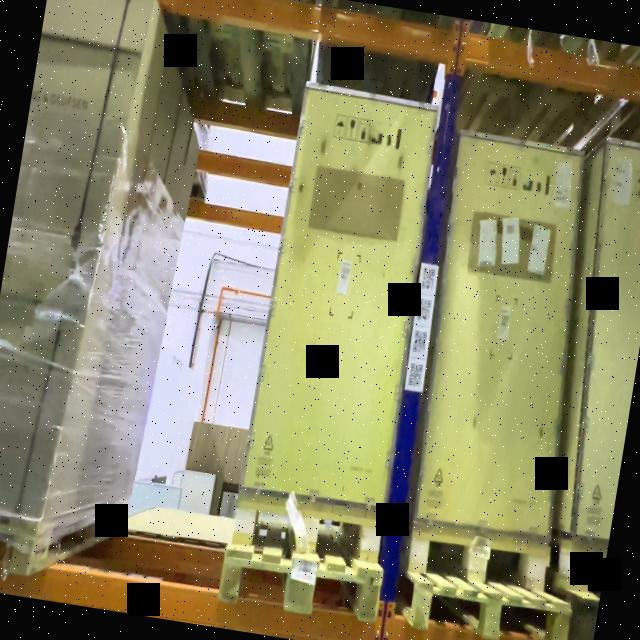box: (238, 83, 438, 510), (414, 130, 589, 538)
